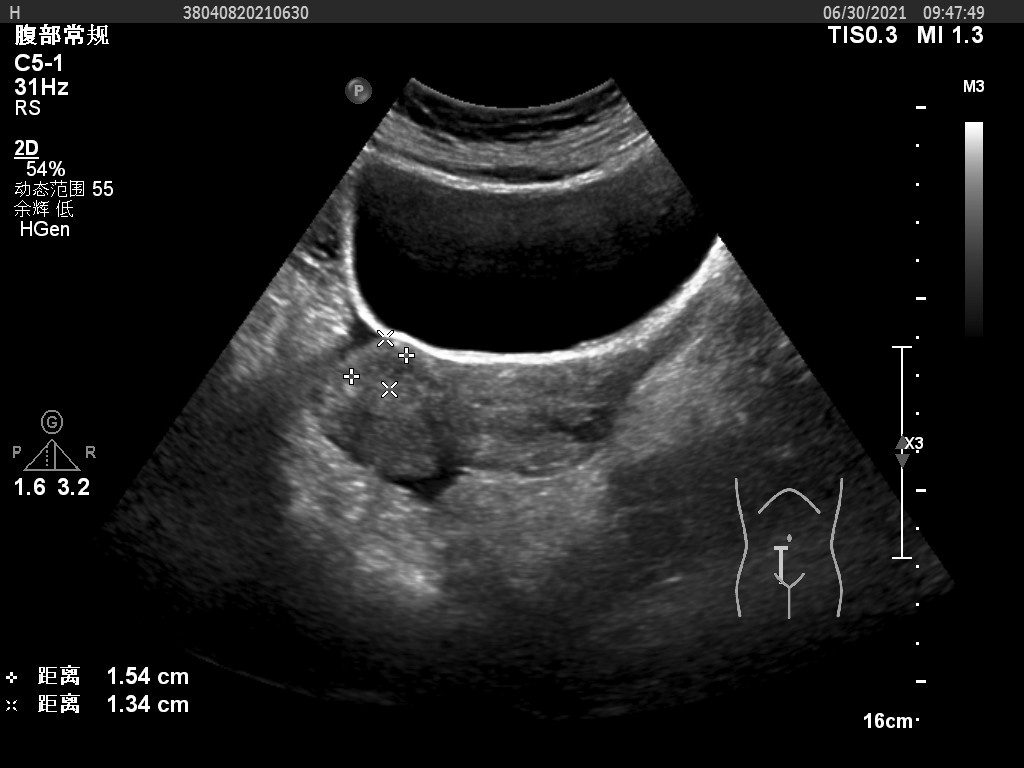肌瘤: (369, 349, 409, 386)
